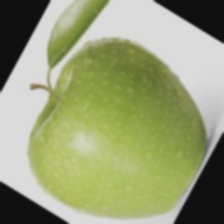apple: (16, 28, 208, 212)
